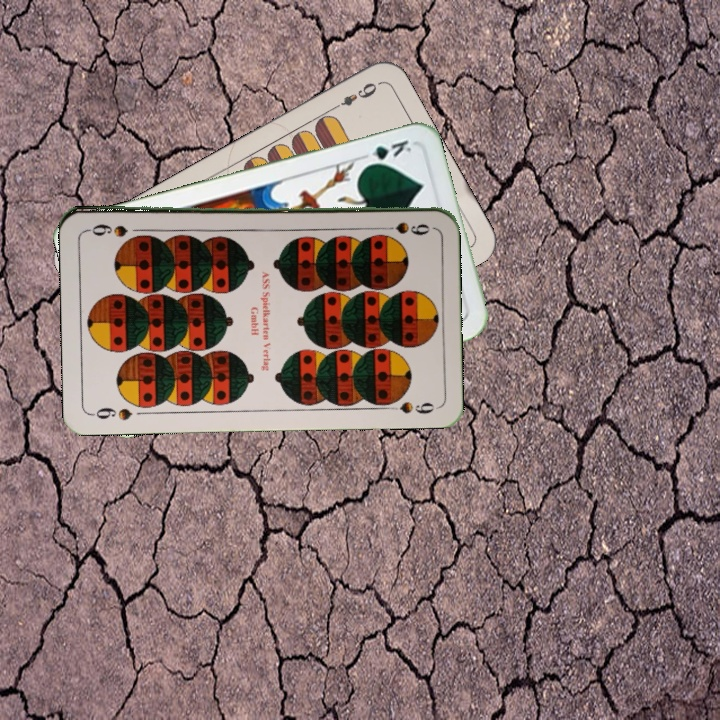E9: (327, 78, 379, 113)
GK: (360, 135, 414, 169)
S9: (88, 403, 135, 423), (374, 218, 431, 234)
